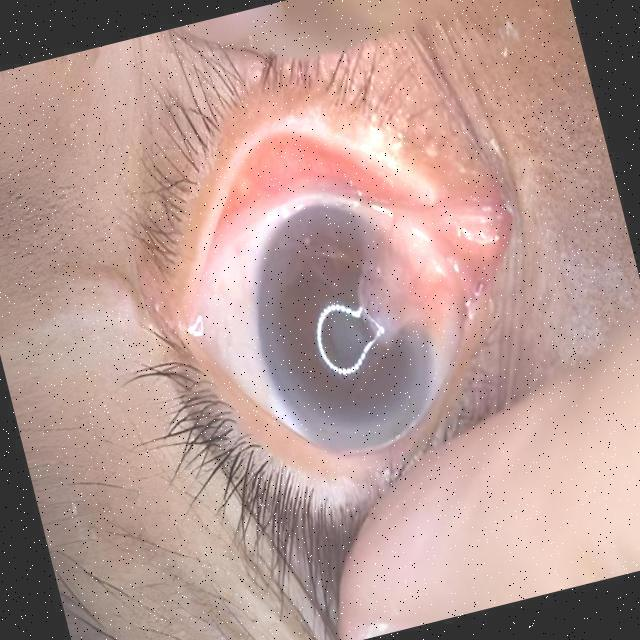Pterygium: (325, 157, 518, 362)
